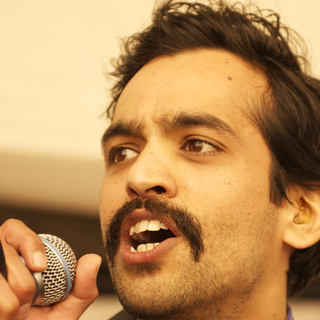eye: (176, 132, 226, 158), (108, 143, 140, 165)
